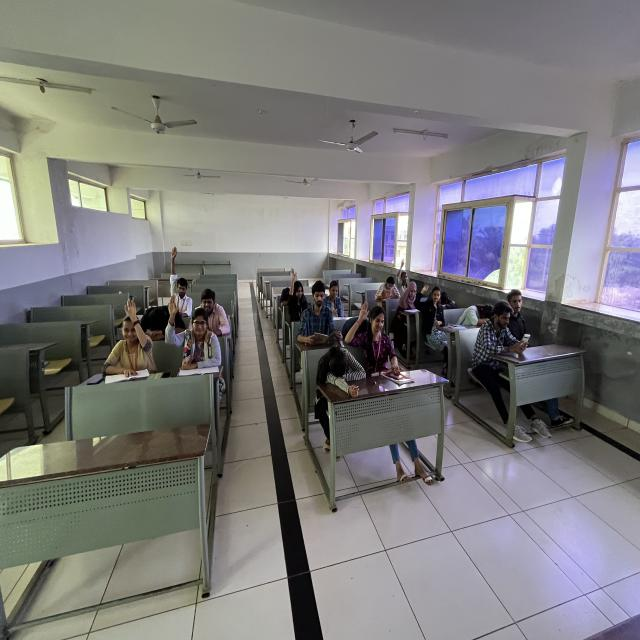Hand Rising: (164, 292, 208, 381), (349, 293, 396, 370), (113, 296, 155, 369), (166, 245, 194, 307), (286, 264, 310, 316), (396, 256, 412, 294)
Reading: (302, 277, 342, 344), (398, 280, 423, 320), (373, 274, 402, 303)
Sleeping: (310, 342, 364, 397), (136, 301, 188, 350), (458, 298, 497, 328)
Using Phone: (472, 293, 534, 375)
Writing: (324, 281, 349, 320)
